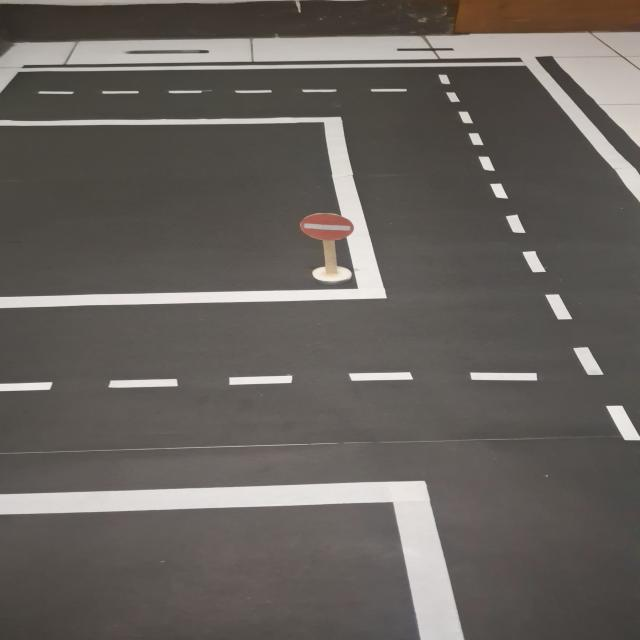Dilarang Masuk: (300, 213, 354, 240)
